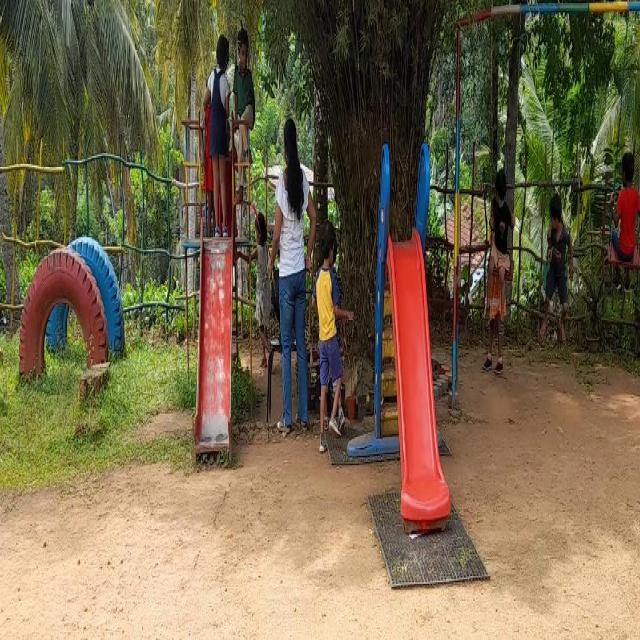adult: (270, 105, 314, 428)
child: (313, 222, 345, 448), (541, 182, 575, 342), (210, 12, 230, 230), (609, 136, 640, 270), (486, 150, 508, 290)
